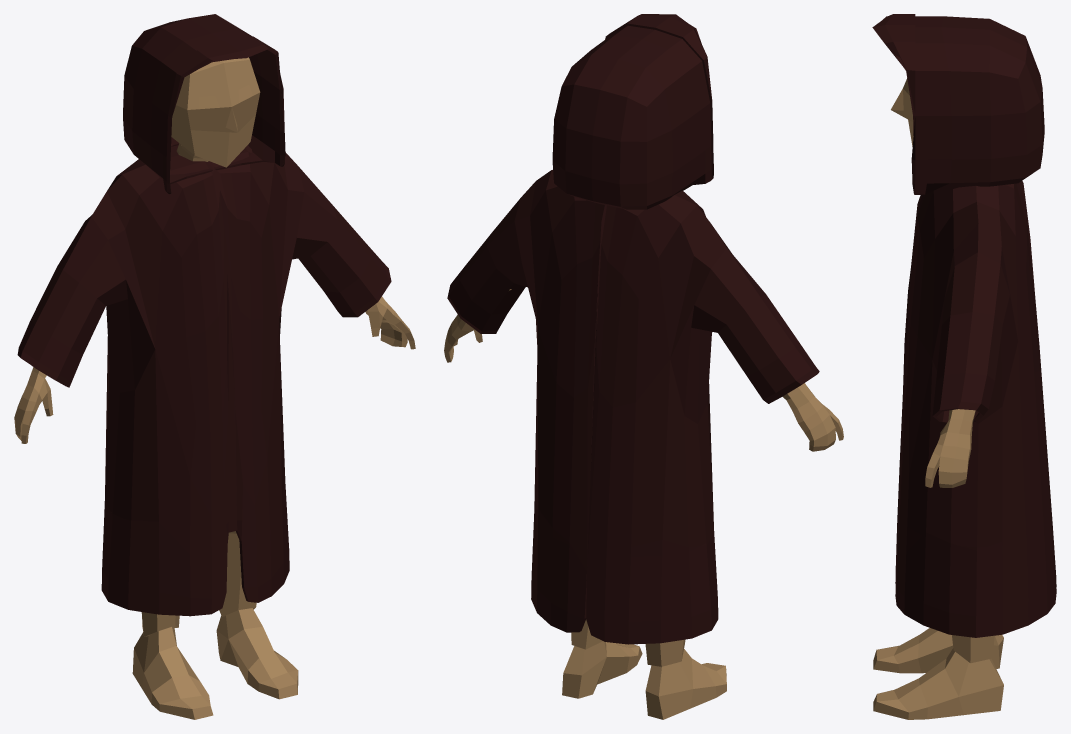
The model's file is Men christian v3.fbx.
3 views of the same model, side by side, from view 1: azimuth 30°, elevation 25°; view 2: azimuth 150°, elevation 25°; view 3: azimuth 270°, elevation 25° (orthographic).
Parts seen in each view (by area): view 1: Cube, Personnage, Cube.001; view 2: Cube, Cube.001, Personnage; view 3: Cube, Cube.001, Personnage.
Boxes of the visible parts, x1=… form: Cube: x1=17, y1=144, x2=391, y2=616; Personnage: x1=14, y1=57, x2=415, y2=719; Cube.001: x1=123, y1=14, x2=285, y2=193; Cube: x1=447, y1=170, x2=819, y2=644; Cube.001: x1=552, y1=14, x2=713, y2=209; Personnage: x1=444, y1=289, x2=843, y2=719; Cube: x1=895, y1=181, x2=1056, y2=637; Cube.001: x1=872, y1=14, x2=1044, y2=194; Personnage: x1=873, y1=78, x2=1003, y2=719.
Bounding box in the file's own units: 143 × 226 × 57.16.
